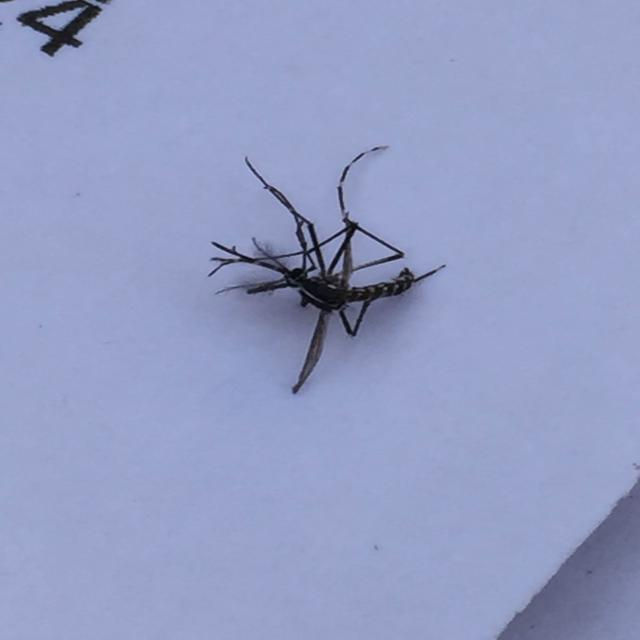albopictus: (202, 142, 458, 393)
